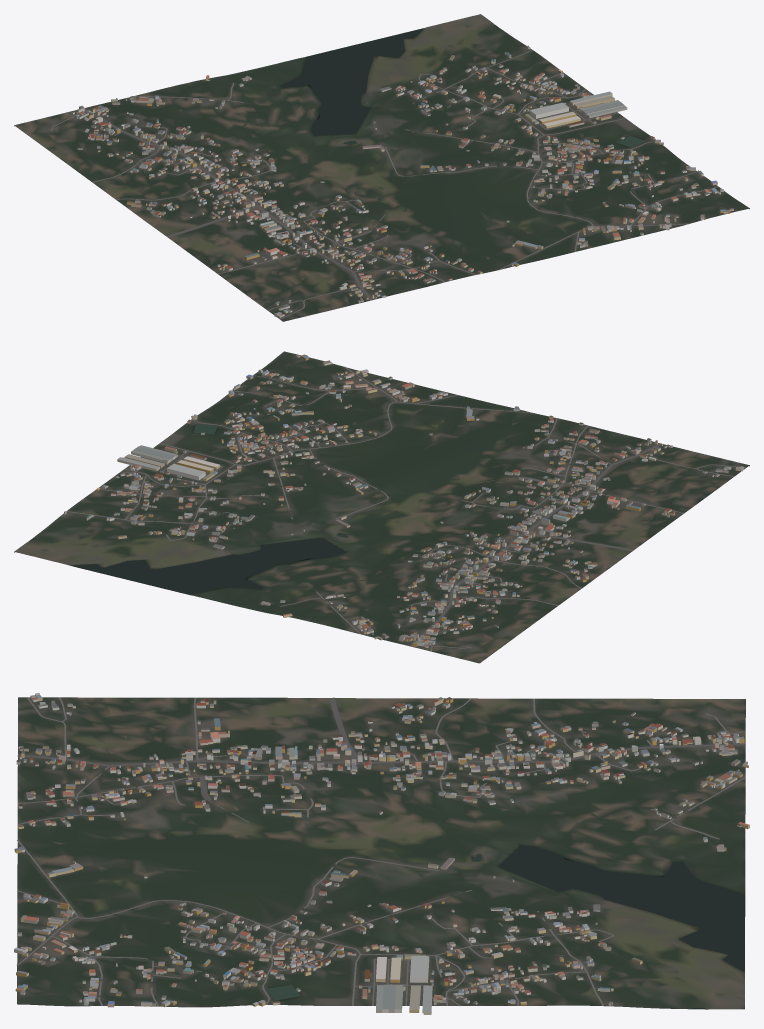
3 renders of one model, top to bottom at view 1: azimuth 30°, elevation 25°; view 2: azimuth 150°, elevation 25°; view 3: azimuth 270°, elevation 25°, orthographic. The views are drawn at different scales.
Parts seen in each view (by area): view 1: ground, buildings, water, roads; view 2: ground, buildings, water, roads; view 3: ground, buildings, water, roads.
Boxes of the visible parts, bbox=[...] form: ground: bbox=[14, 14, 749, 321]; buildings: bbox=[71, 45, 733, 317]; water: bbox=[279, 25, 646, 147]; roads: bbox=[50, 50, 718, 319]; ground: bbox=[14, 351, 749, 663]; buildings: bbox=[64, 354, 744, 647]; water: bbox=[29, 424, 347, 594]; roads: bbox=[67, 367, 746, 651]; ground: bbox=[17, 697, 745, 1009]; buildings: bbox=[14, 693, 749, 1014]; water: bbox=[267, 845, 744, 1008]; roads: bbox=[16, 697, 745, 1006].
Bounding box in the file's own units: 1442 × 27.56 × 1418.
